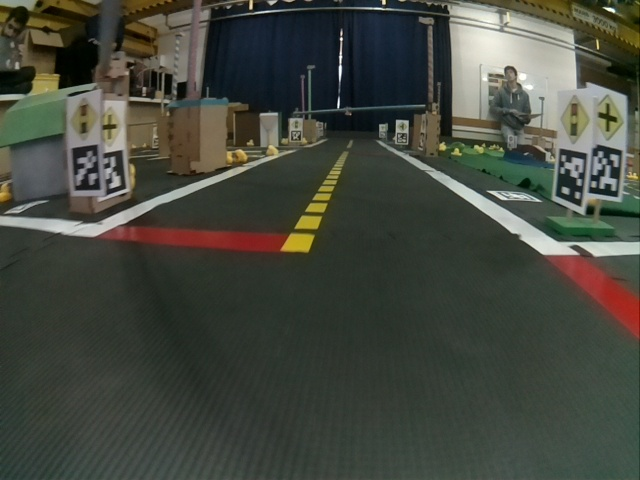Duckie: (235, 150, 247, 163), (266, 145, 277, 155), (452, 147, 462, 157)
Intersection sign: (593, 91, 626, 142), (101, 108, 123, 146), (397, 122, 407, 128)
QR code: (554, 149, 584, 209), (591, 145, 621, 200), (69, 144, 100, 192), (102, 155, 127, 197), (396, 133, 408, 143)
Signal sign: (558, 95, 590, 139), (70, 100, 100, 138), (292, 119, 301, 129)
